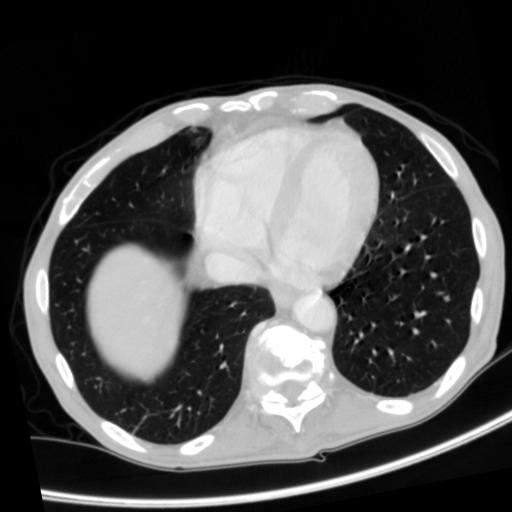nodule: (440, 292, 454, 306)
